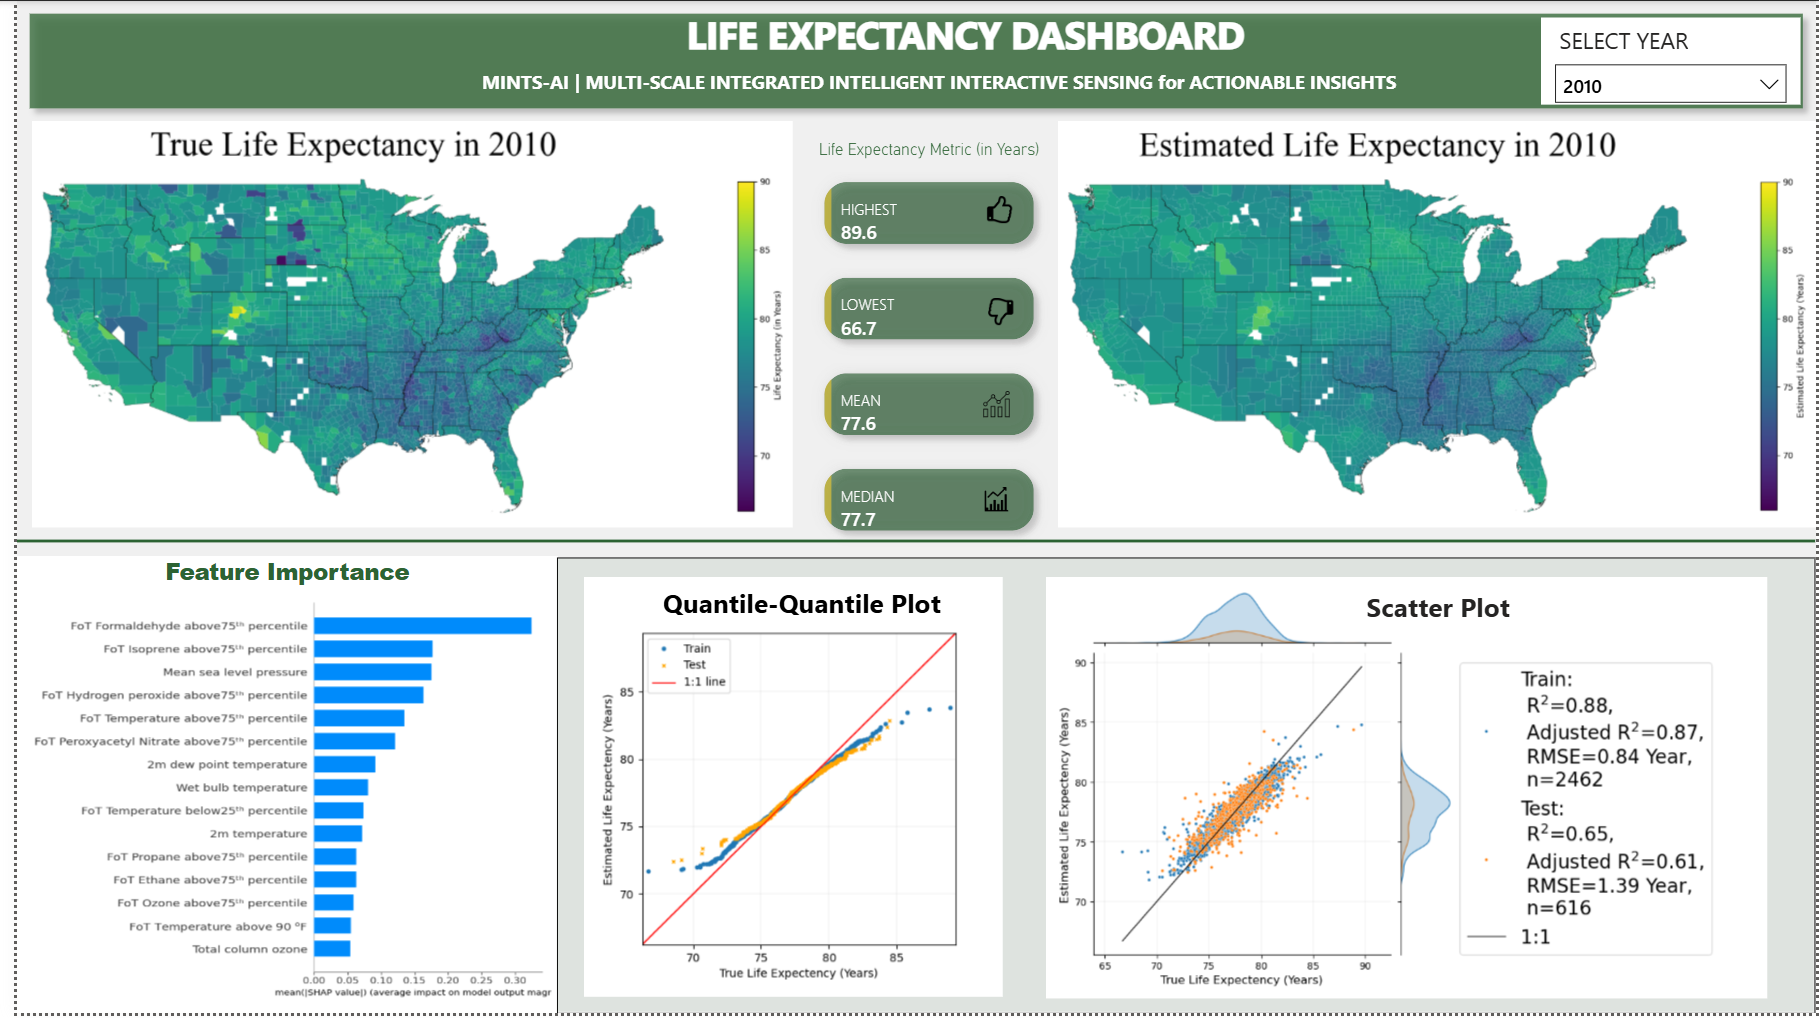

The page's visual inventory and layout, read from the dashboard file:
{"tool":"powerbi","page":{"name":"Page 1","canvas":[1280,720],"ordinal":0},"visuals":[{"type":"shape","box":[0,0,1279.6,85.4],"z":0},{"type":"textbox","box":[470.6,295.6,228.4,39.5],"z":1000},{"type":"textbox","box":[481.3,20.3,434.4,53.4],"z":2000},{"type":"cardVisual","title":"Life Expectancy Metric (in Years)","fields":{"Data":["all_years.Highest","all_years.Lowest","all_years.Mean","all_years.Median"]},"box":[557.1,92.8,183.6,303.1],"z":3000},{"type":"slicer","fields":{"Values":["all_years.year"]},"box":[1084.3,11.7,184.6,61.9],"z":4000},{"type":"simpleImageEBC4593F96F1425FB3D84C5BF02B5075","fields":{"imageURL":["pictures.true"]},"box":[10.7,85.4,541.1,289.2],"z":5000},{"type":"simpleImageEBC4593F96F1425FB3D84C5BF02B5075","fields":{"imageURL":["pictures.Estimated"]},"box":[740.6,85.4,540,289.2],"z":6000},{"type":"shape","box":[0,372.5,1279.6,23.5],"z":7000},{"type":"simpleImageEBC4593F96F1425FB3D84C5BF02B5075","title":"Feature Importance","fields":{"imageURL":["pictures.Features"]},"box":[0,395.9,336.2,324.4],"z":8000},{"type":"shape","box":[357.5,395.9,922.1,324.4],"z":9000},{"type":"simpleImageEBC4593F96F1425FB3D84C5BF02B5075","fields":{"imageURL":["pictures.qq"]},"box":[403.4,409.8,297.8,298.8],"z":10000},{"type":"simpleImageEBC4593F96F1425FB3D84C5BF02B5075","fields":{"imageURL":["pictures.scatter"]},"box":[757.7,409.8,299.9,299.9],"z":11000}]}

Visuals, with their boxes in screenshot pixels (x1, y1, x2, y2), scaled from the page's 1280x720 canvas onto the 1819x1018 screenshot:
shape: locate(0, 0, 1818, 121)
textbox: locate(669, 418, 993, 474)
textbox: locate(684, 29, 1301, 104)
"Life Expectancy Metric (in Years)" cardVisual: locate(792, 131, 1053, 560)
slicer - all_years.year: locate(1541, 17, 1803, 104)
simpleImageEBC4593F96F1425FB3D84C5BF02B5075 - pictures.true: locate(15, 121, 784, 530)
simpleImageEBC4593F96F1425FB3D84C5BF02B5075 - pictures.Estimated: locate(1052, 121, 1818, 530)
shape: locate(0, 527, 1818, 560)
"Feature Importance" simpleImageEBC4593F96F1425FB3D84C5BF02B5075: locate(0, 560, 478, 1017)
shape: locate(508, 560, 1818, 1017)
simpleImageEBC4593F96F1425FB3D84C5BF02B5075 - pictures.qq: locate(573, 579, 996, 1002)
simpleImageEBC4593F96F1425FB3D84C5BF02B5075 - pictures.scatter: locate(1077, 579, 1503, 1003)
